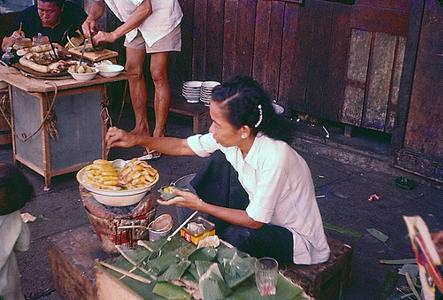person: (105, 78, 330, 269)
